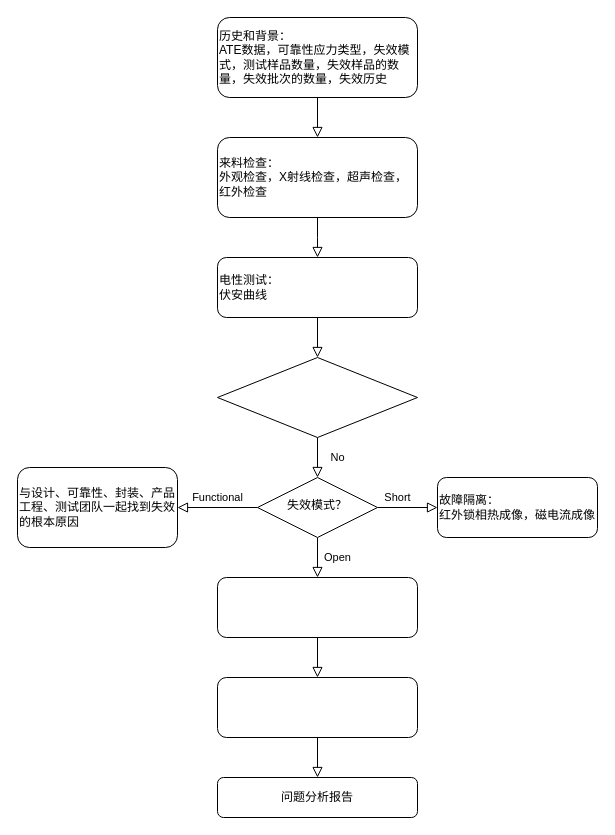
Some shapes in this 615 by 835 pixel diagram are drawn without their labels. Here are the shapes that lost their labels. From the top down, the box of each, then its label:
(216, 356, 418, 438): 来料检查发现的缺陷是否与电性失效相关
(216, 576, 418, 638): 故障隔离： TDR，EOTPR
(216, 676, 418, 738): 物性/破坏性分析和材料分析找出缺陷来源
